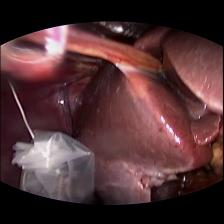Specimen Bag: (9, 125, 111, 208)
